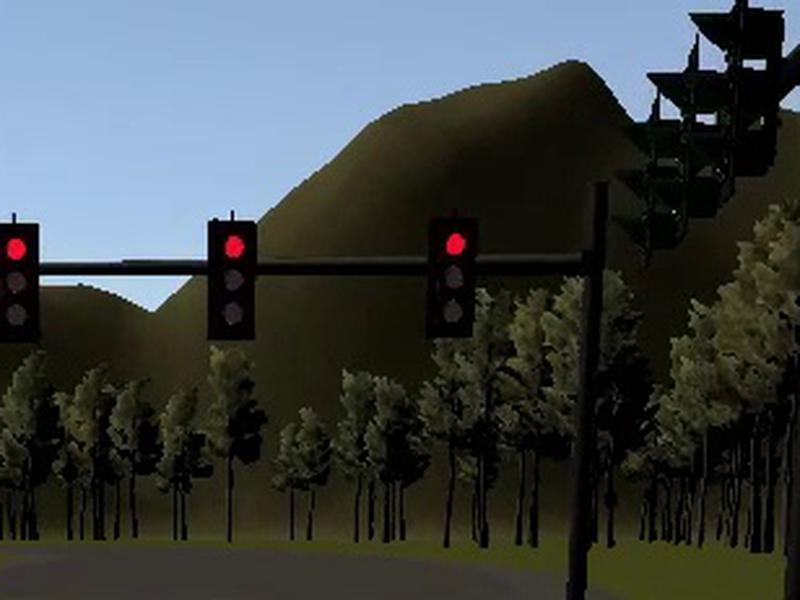Red: (427, 217, 479, 337), (208, 221, 257, 339), (1, 223, 40, 342)
